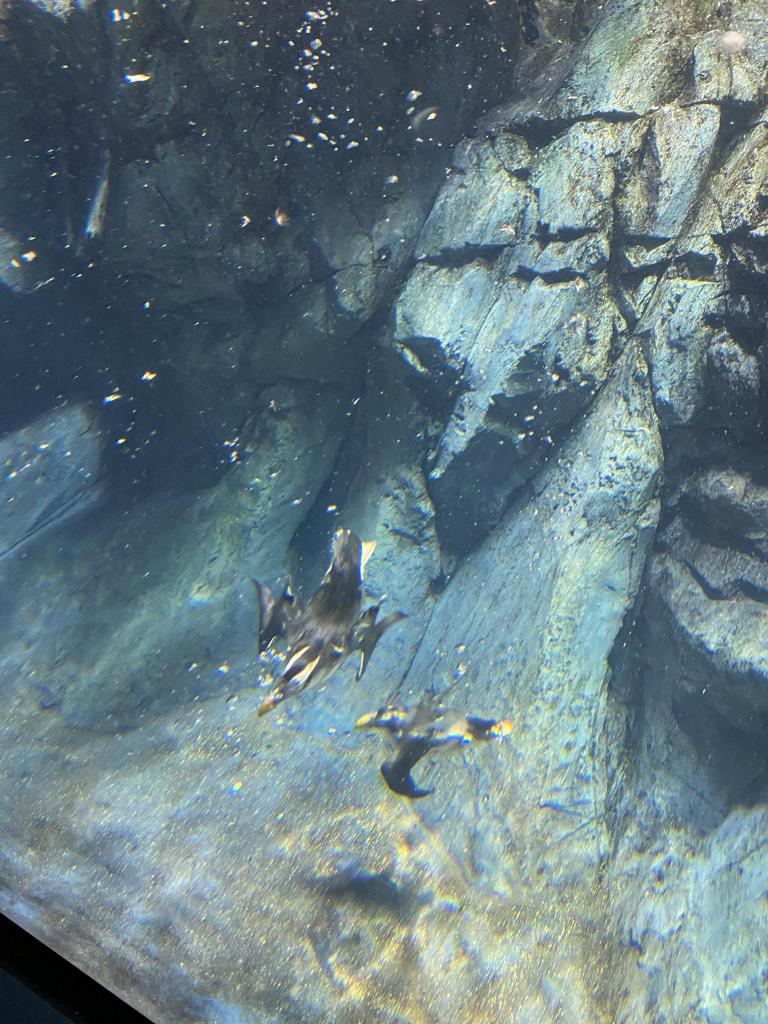puffin: (255, 530, 407, 716), (355, 687, 513, 797)
